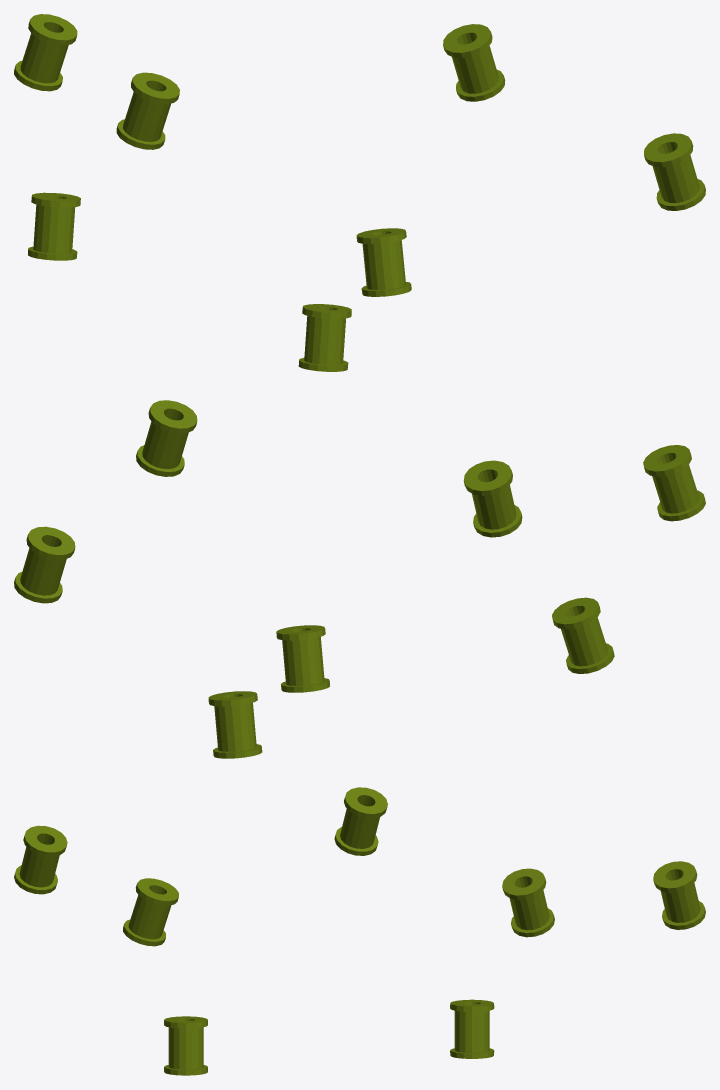
File: Rollos Race.fbx
3 renders of one model, top to bottom at view 1: azimuth 30°, elevation 25°; view 2: azimuth 150°, elevation 25°; view 3: azimuth 270°, elevation 25°, orthographic. The views are drawn at different scales.
Parts seen in each view (by area): view 1: Rollos; view 2: Rollos; view 3: Rollos.
Part boxes in pixels (x1,y1,x2,y2): Rollos: (14,14,705,371); Rollos: (14,400,705,758); Rollos: (14,787,705,1075).
Size of the model in its own units: 24893 by 2682 by 29407.
